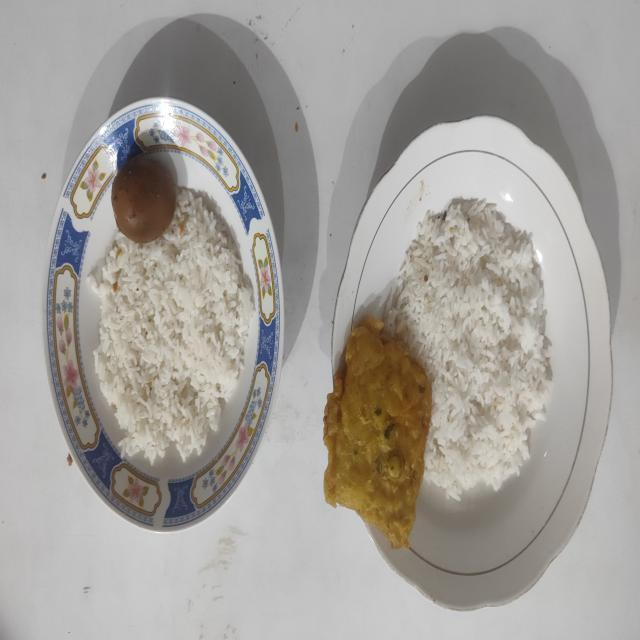nasi_putih: (384, 197, 552, 499), (86, 187, 256, 463)
